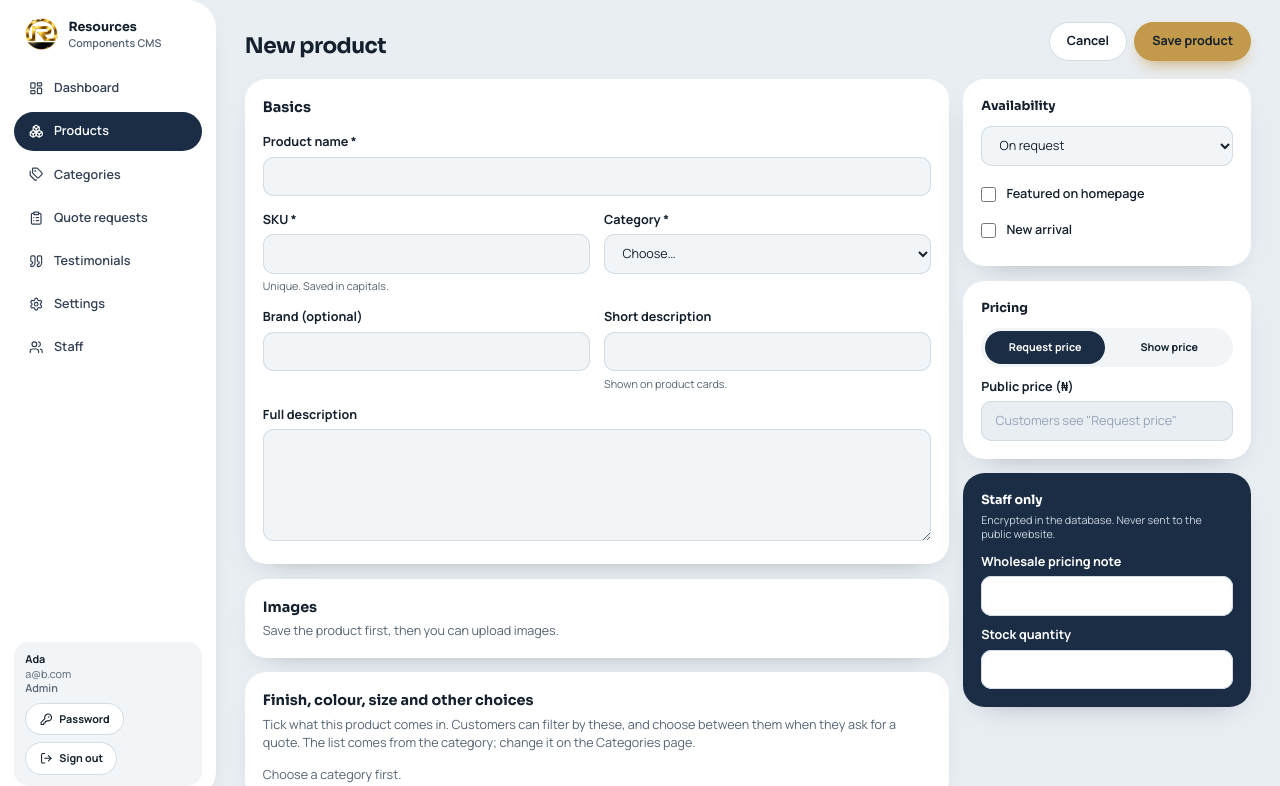
Test: product form blocks save and explains the missing fields
Click the button "Save product".
click(1193, 41)  # box x1=1134 y1=22 x2=1251 y2=61
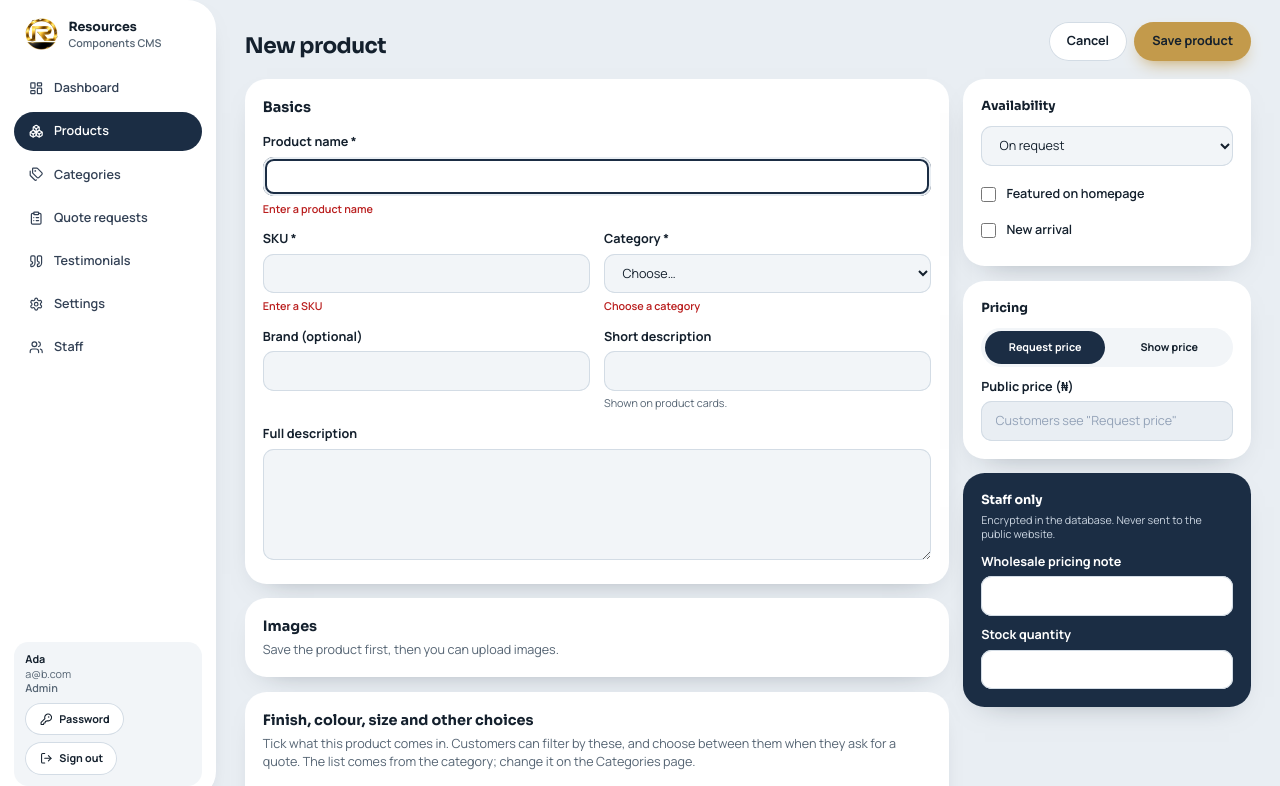
expect the text "Enter a product name" is shown: met, box x1=263 y1=200 x2=373 y2=216
expect the text "Enter a SKU" is shown: met, box x1=263 y1=298 x2=322 y2=313
expect the text "Choose a category" is shown: met, box x1=604 y1=298 x2=700 y2=313
